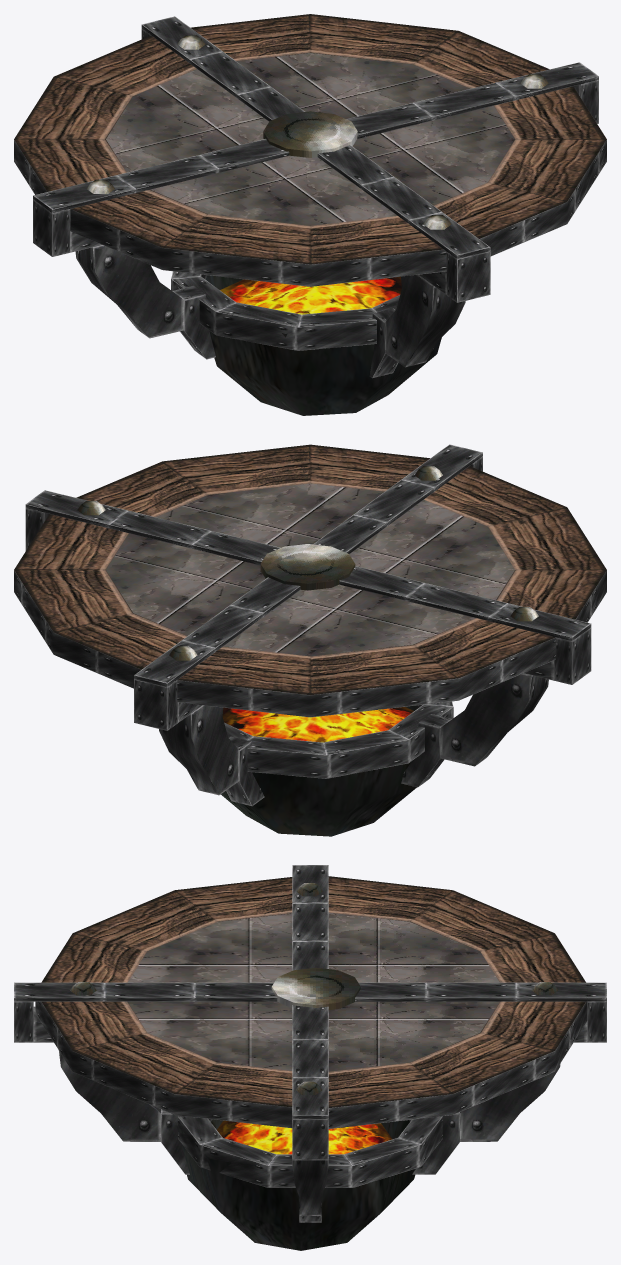
File: INST_SM_SMALLCHANDELIER.fbx
3 views of the same model, one above another, from view 1: azimuth 30°, elevation 25°; view 2: azimuth 150°, elevation 25°; view 3: azimuth 270°, elevation 25° (orthographic). The views are drawn at different scales.
Visible parts, largest first — view 1: INST_SM_SMALLCHANDELIER; view 2: INST_SM_SMALLCHANDELIER; view 3: INST_SM_SMALLCHANDELIER.
Part boxes in pixels (x1,y1,x2,y2): INST_SM_SMALLCHANDELIER: (14, 14, 606, 415); INST_SM_SMALLCHANDELIER: (14, 444, 606, 836); INST_SM_SMALLCHANDELIER: (14, 865, 606, 1250).
Size of the model in its own units: 42078 by 20134 by 42078.
Materials: 6 (6 with a texture image).
